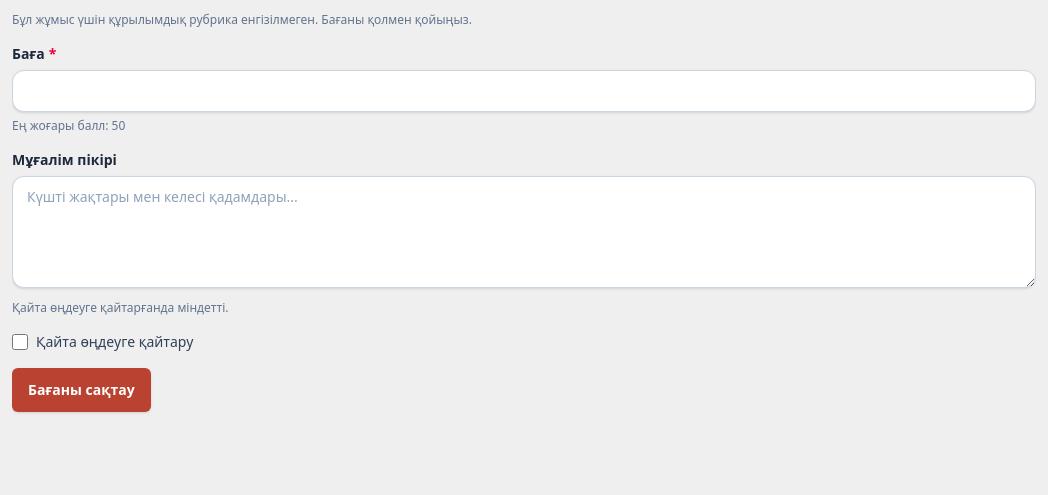
GradeRubric › rejects an out-of-range grade
The image size is (1048, 495).
Type "80" into the number field labelled "Баға*".
click(524, 91); type("80")  # box 12,70 -> 1036,112
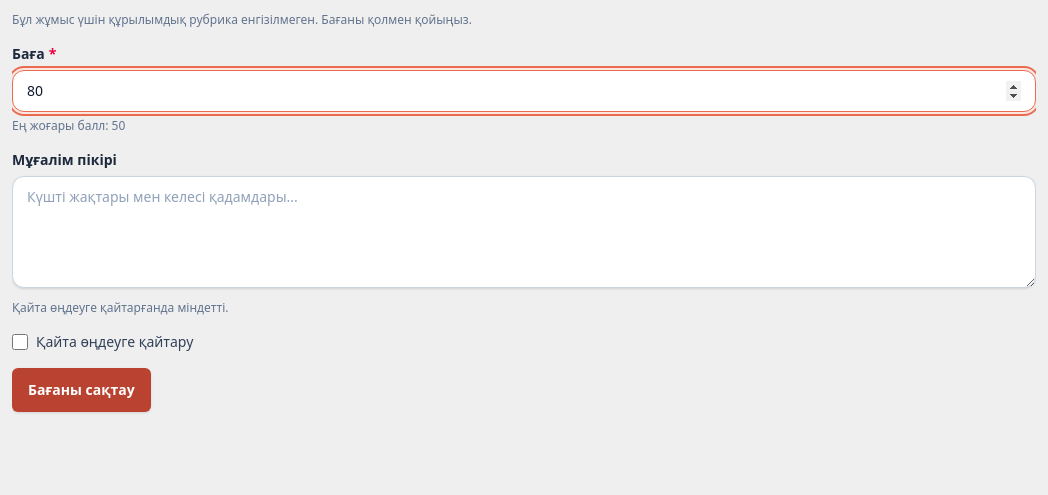
Click the button "Бағаны сақтау".
click(81, 390)  # box 12,368 -> 151,412
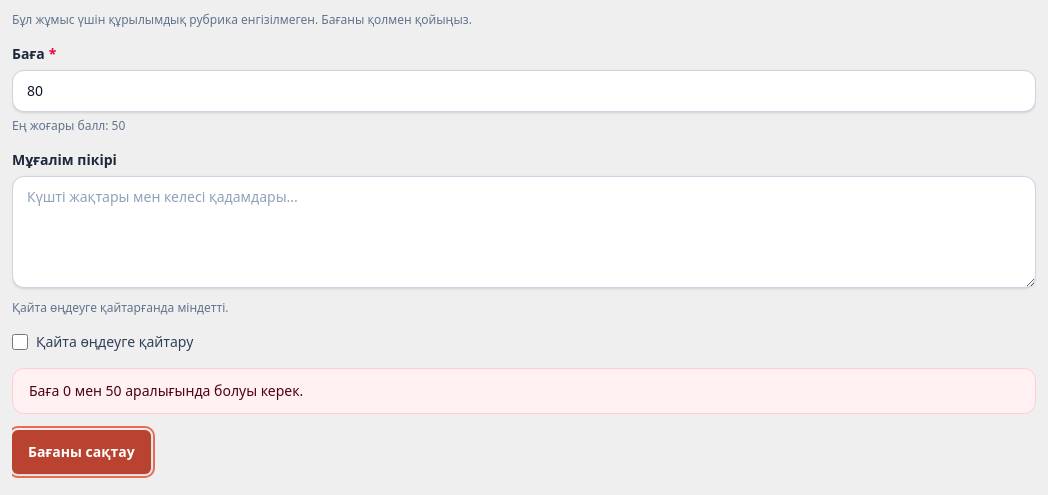
Check: the text "Баға 0 мен 50 аралығында болуы керек." is shown, box 29,381 -> 303,400
